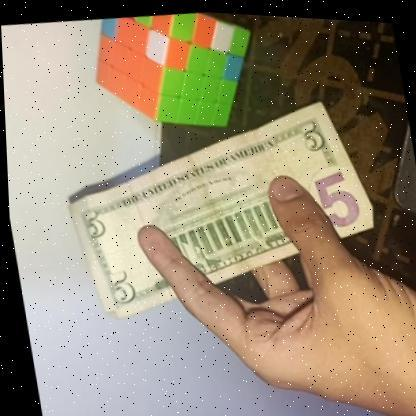five-back: (48, 79, 388, 337)
